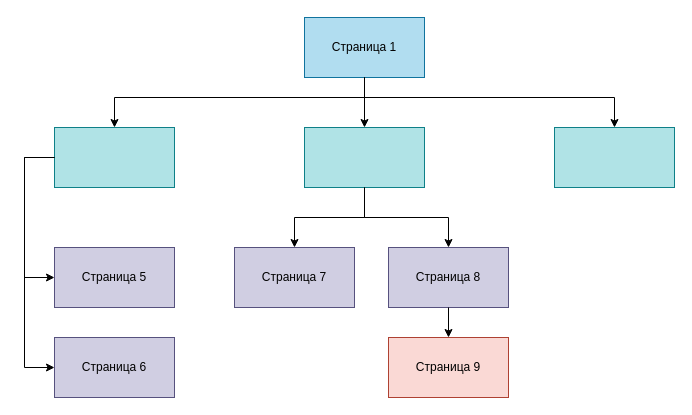
This 692x415 diagram has some shape labels left out. Here are the shapes that lost their labels. From the top down, the centre of each, then its label:
pixel 114 157: Страница 2
pixel 364 157: Страница 3
pixel 614 157: Страница 4
